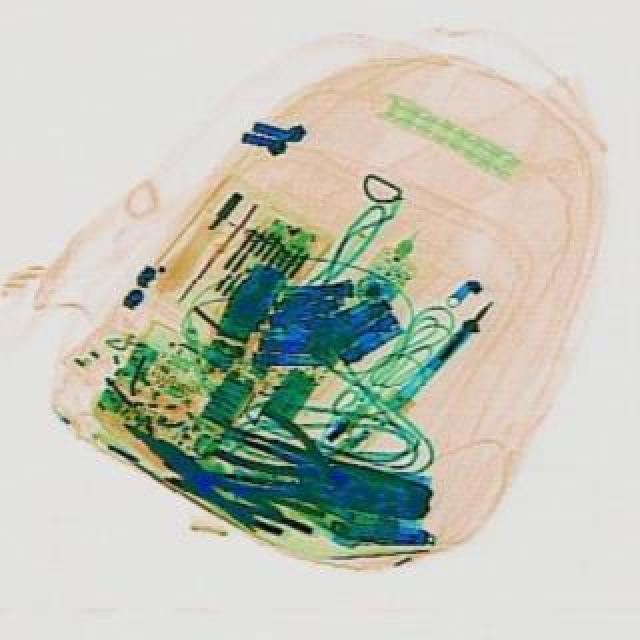wrench: (206, 392, 378, 508)
